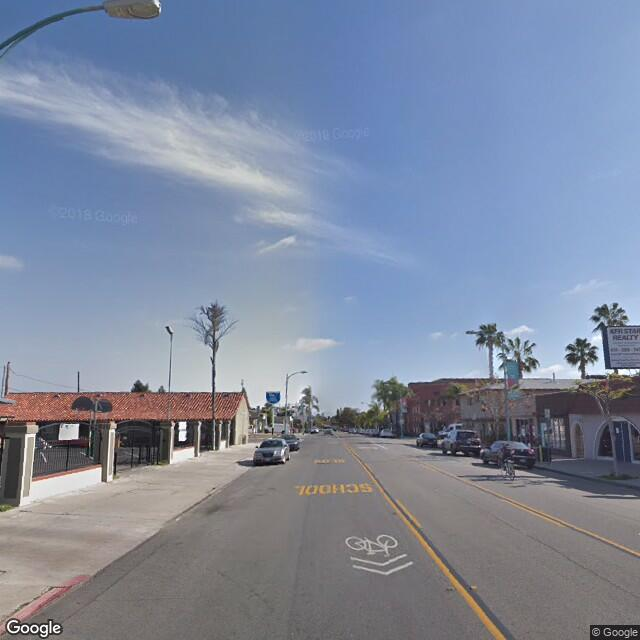light: (97, 1, 159, 22)
road line: (409, 517, 494, 618), (369, 471, 409, 510)
